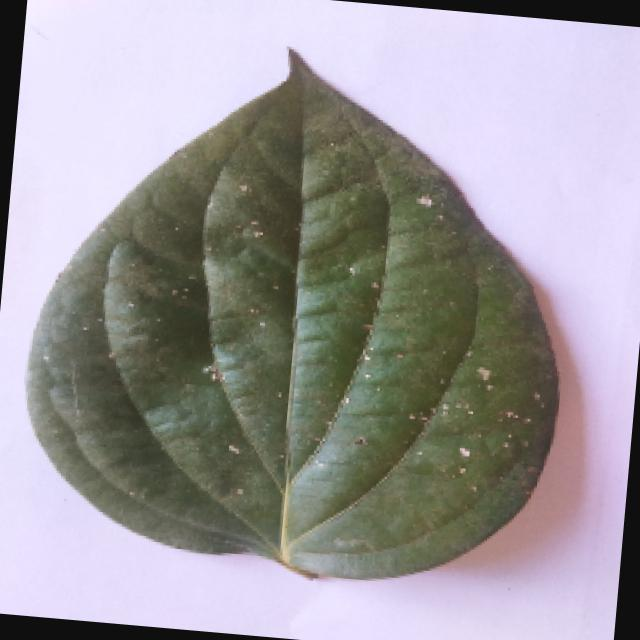pollu-disease: (0, 20, 595, 586)
